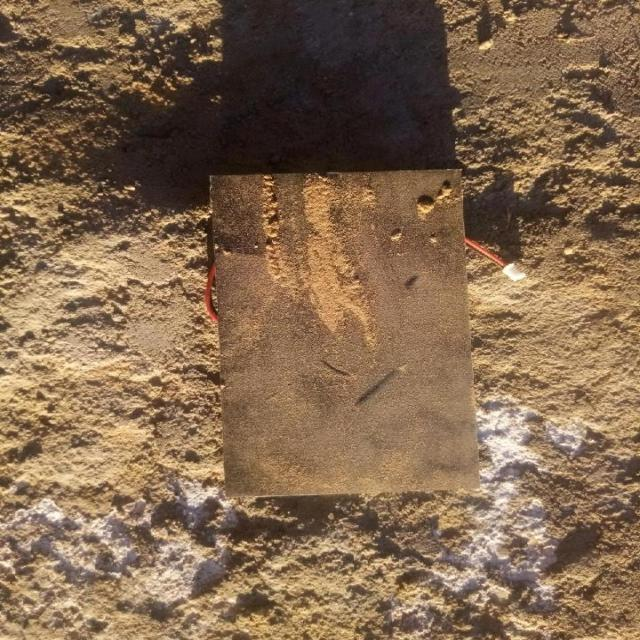faulty: (205, 172, 482, 495)
